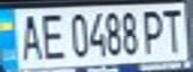0: (66, 9, 90, 58)
4: (87, 8, 106, 57)
8: (103, 8, 124, 56), (121, 8, 142, 56)
A: (12, 10, 45, 62)
E: (36, 10, 66, 61)
P: (139, 7, 169, 55)
T: (157, 6, 187, 54)
